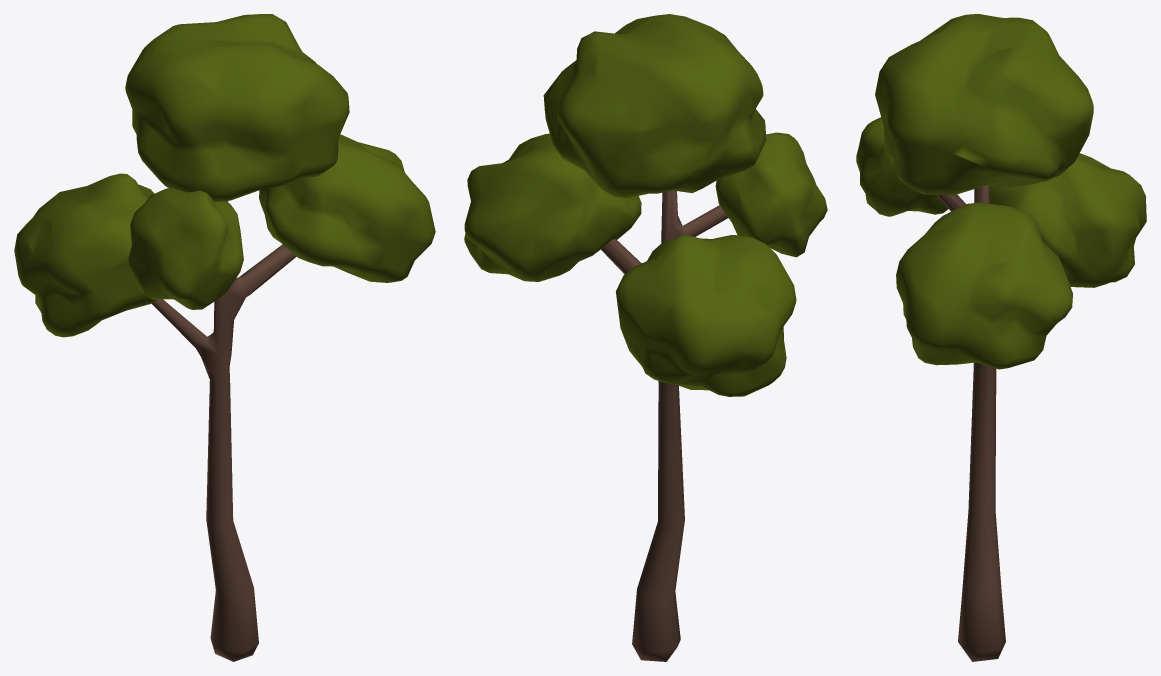
The model's file is Tree4_4.fbx.
3 renders of one model, left to right at view 1: azimuth 30°, elevation 25°; view 2: azimuth 150°, elevation 25°; view 3: azimuth 270°, elevation 25°, orthographic.
Parts seen in each view (by area): view 1: Plane.007; view 2: Plane.007; view 3: Plane.007.
Part boxes in pixels (x1,y1,x2,y2): Plane.007: [14, 14, 435, 661]; Plane.007: [464, 14, 827, 661]; Plane.007: [856, 14, 1146, 661].
Size of the model in its own units: 915 by 1586 by 671.
